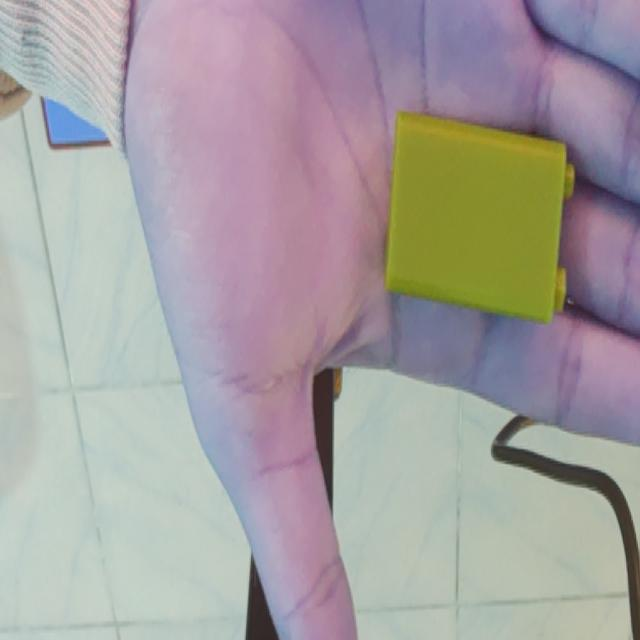bateria: (383, 113, 574, 326)
